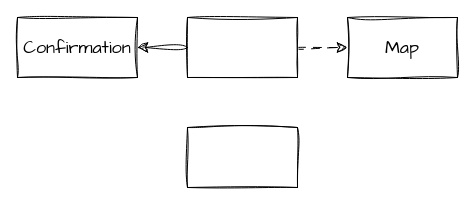
The diagram is 475 pixels wide and 205 high, and some of its shapes have lost their labels. Each missing label, with the box of its shape:
Access: (186, 16, 298, 78)
Profile: (186, 126, 298, 188)
